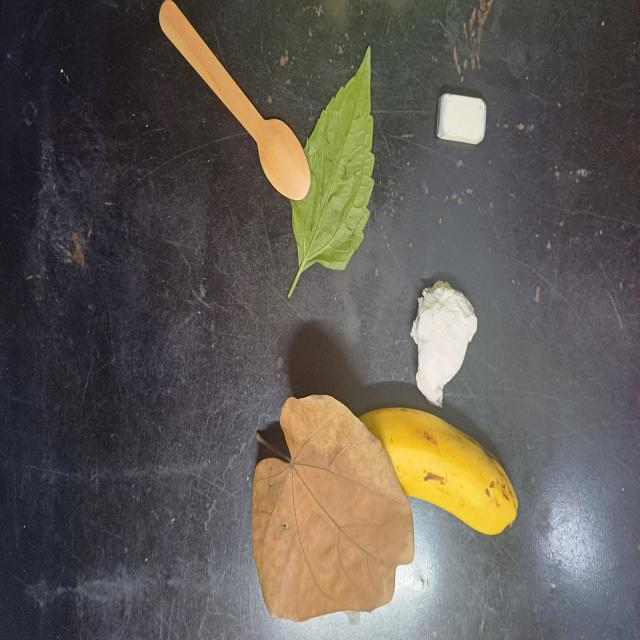Banana-Bio: (358, 406, 520, 538)
Eraser-NonBio: (436, 92, 487, 149)
Leaf-Bio: (251, 386, 415, 624), (292, 42, 378, 300)
Tissue Paper-Bio: (410, 274, 479, 408)
Wooden Spoon-Bio: (155, 0, 311, 206)
